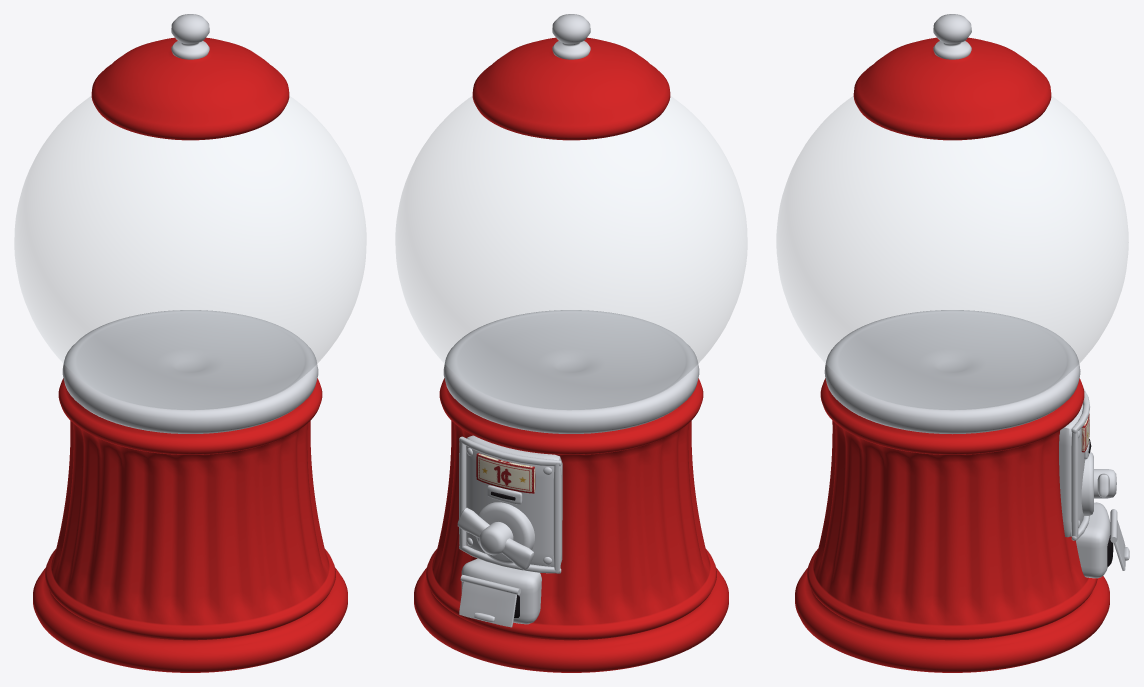
The model's file is gumball.glb.
3 renders of one model, left to right at view 1: azimuth 30°, elevation 25°; view 2: azimuth 150°, elevation 25°; view 3: azimuth 270°, elevation 25°, orthographic.
Parts seen in each view (by area): view 1: gumball; view 2: gumball; view 3: gumball.
Boxes of the visible parts, x1,y1,x2,y2 form: gumball: [14, 14, 366, 672]; gumball: [395, 14, 747, 672]; gumball: [776, 14, 1129, 672].
Size of the model in its own units: 0.62 by 1.15 by 0.6216.
Materials: 5 (1 with a texture image).
